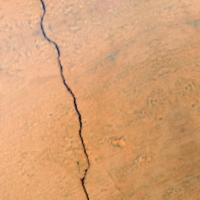crack: (30, 1, 106, 199)
